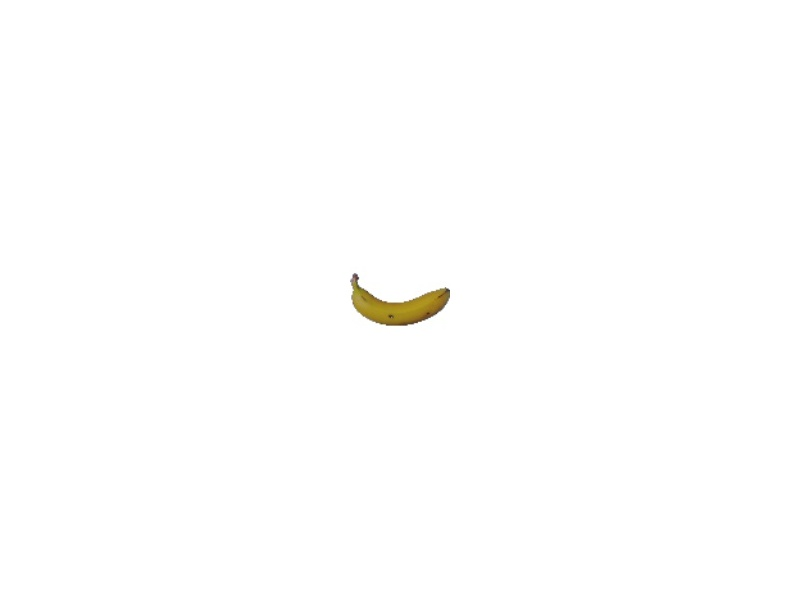banana: (349, 271, 452, 328)
